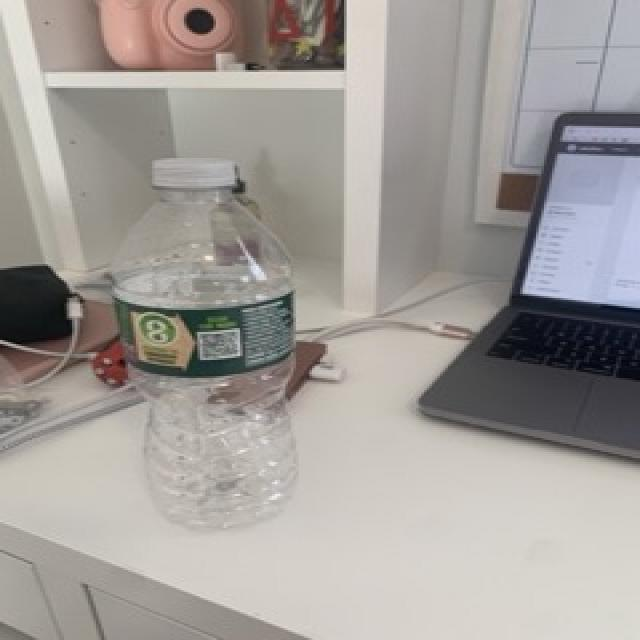water_bottle: (102, 152, 307, 538)
